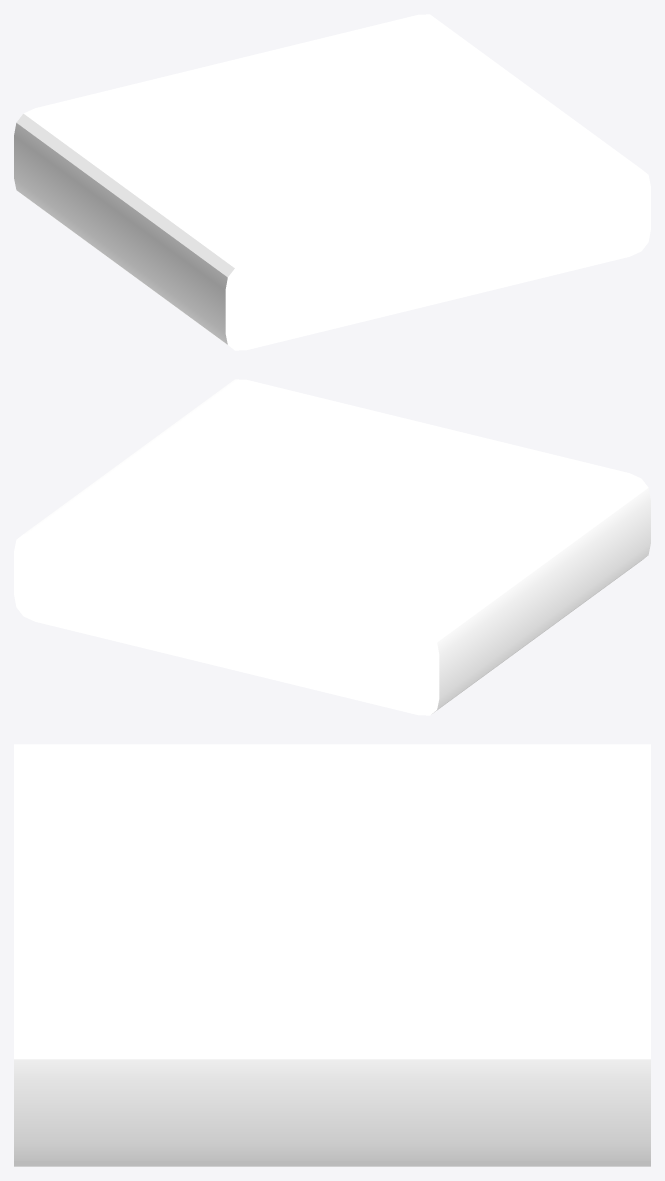
3 views of the same model, one above another, from view 1: azimuth 30°, elevation 25°; view 2: azimuth 150°, elevation 25°; view 3: azimuth 270°, elevation 25° (orthographic). The views are drawn at different scales.
Visible parts, largest first — view 1: -_Soul_White; view 2: -_Soul_White; view 3: -_Soul_White.
Boxes of the visible parts, x1,y1,x2,y2 form: -_Soul_White: (14, 14, 650, 350); -_Soul_White: (14, 379, 650, 715); -_Soul_White: (14, 744, 650, 1166).
Size of what is drawn, in the model's own units: 0.0523 by 0.0102 by 0.045.
2 materials, 2 textured.
